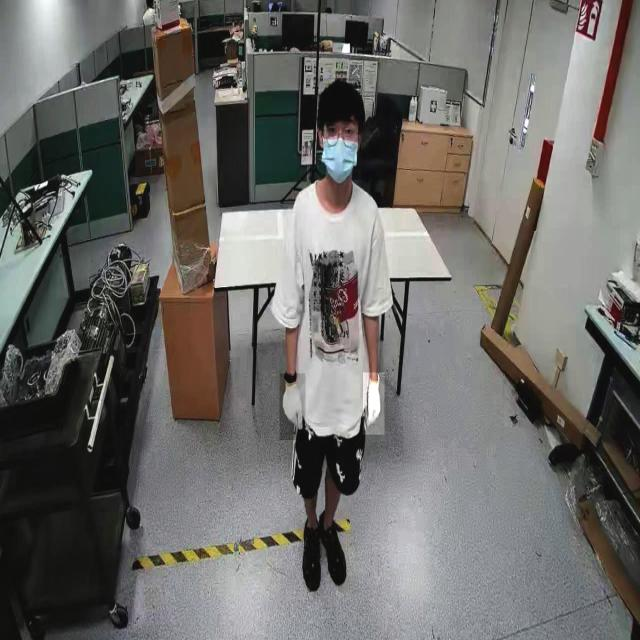face_mask: (316, 124, 362, 184)
glasses: (324, 124, 358, 150)
hand_glove: (279, 373, 305, 441), (362, 372, 384, 436)
head_nohelmet: (317, 78, 365, 122)
person: (268, 68, 400, 594)
shoes: (321, 502, 352, 582), (297, 516, 323, 596)
